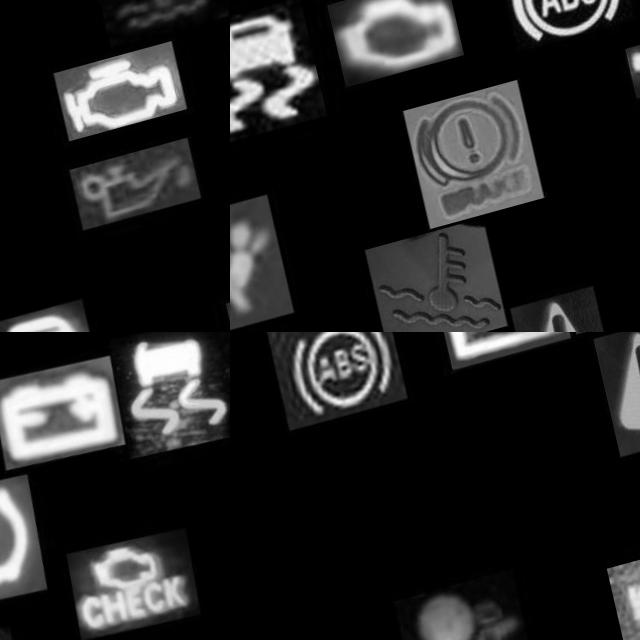Central Warning lamp: (585, 339, 640, 475)
Engine cooling system: (346, 235, 484, 332), (83, 0, 219, 68)
